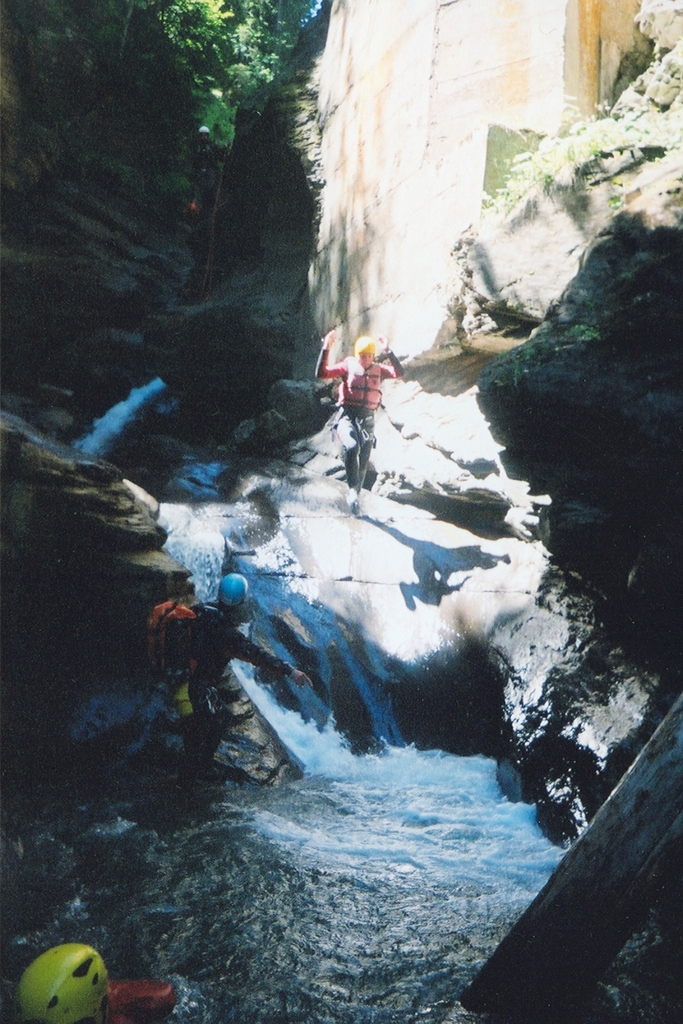Person: (148, 573, 313, 793), (0, 937, 211, 1024), (314, 330, 405, 515), (190, 125, 221, 197)
